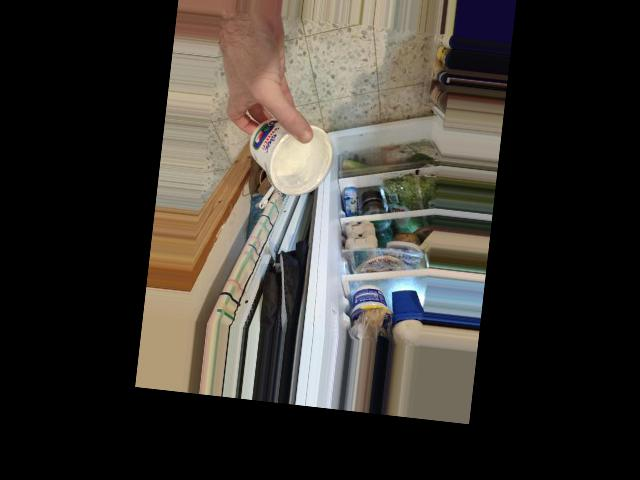cotage: (241, 112, 332, 198)
